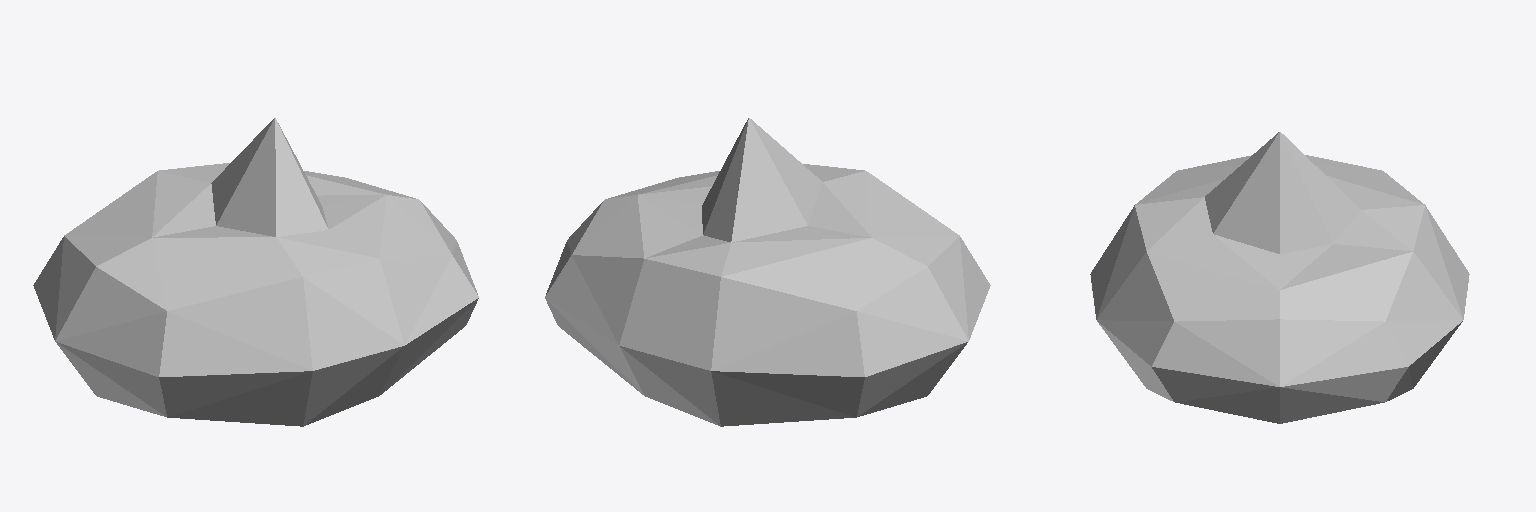
File: gator_tail1.obj
3 views of the same model, side by side, from view 1: azimuth 30°, elevation 25°; view 2: azimuth 150°, elevation 25°; view 3: azimuth 270°, elevation 25° (orthographic).
Parts seen in each view (by area): view 1: Tail_1.001; view 2: Tail_1.001; view 3: Tail_1.001.
Boxes of the visible parts, <box> form: Tail_1.001: <box>33,118,478,426</box>; Tail_1.001: <box>545,118,990,426</box>; Tail_1.001: <box>1090,132,1469,423</box>.
Bounding box in the file's own units: 0.2395 × 0.1529 × 0.1958.